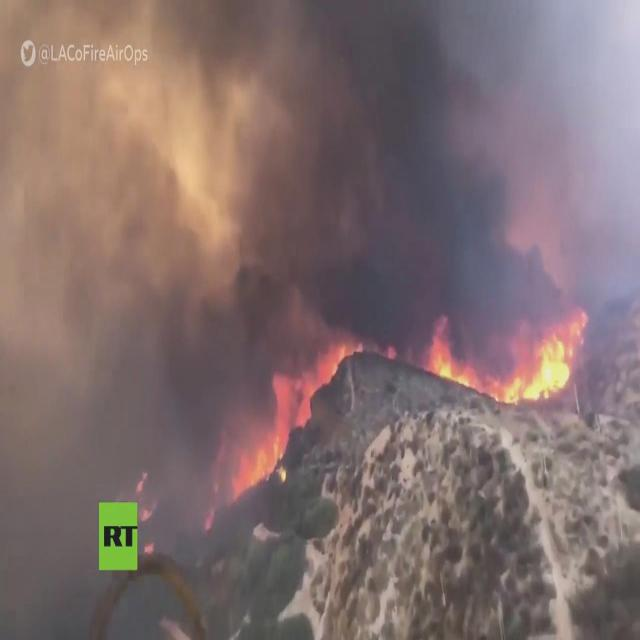Fire: (233, 337, 361, 502), (431, 305, 593, 398), (139, 502, 155, 523), (137, 471, 151, 494), (143, 537, 156, 555)
